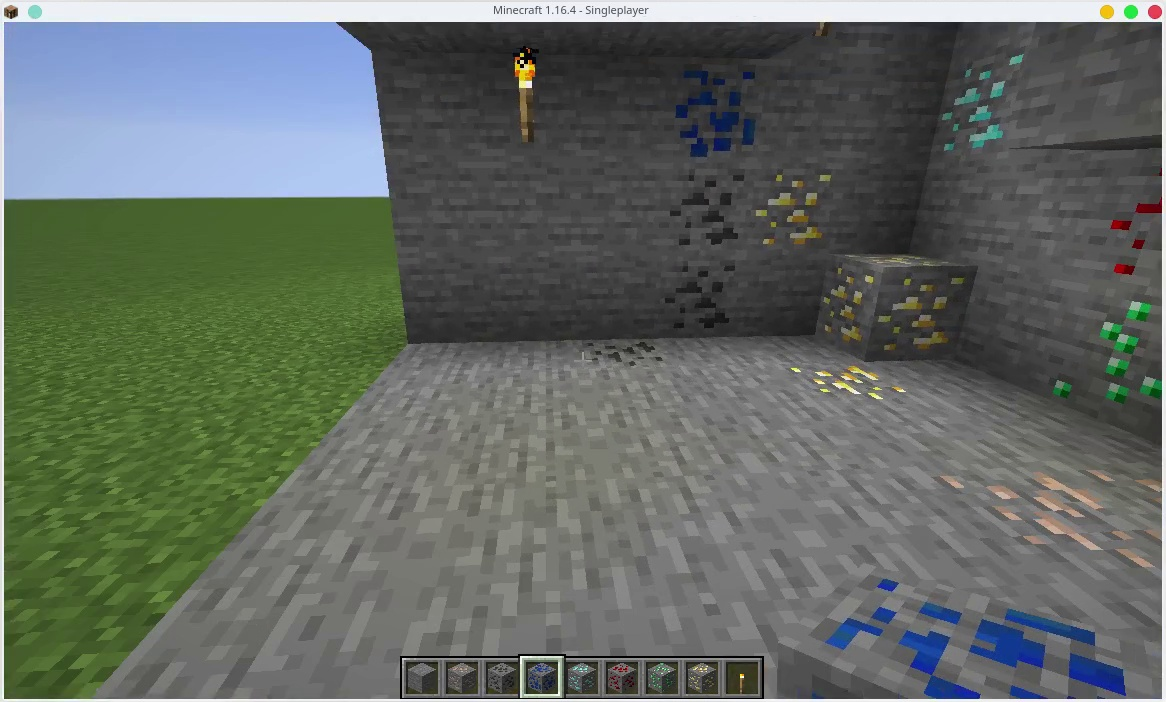gold: (822, 250, 974, 358), (746, 161, 831, 247), (792, 354, 904, 408), (687, 658, 720, 695)
